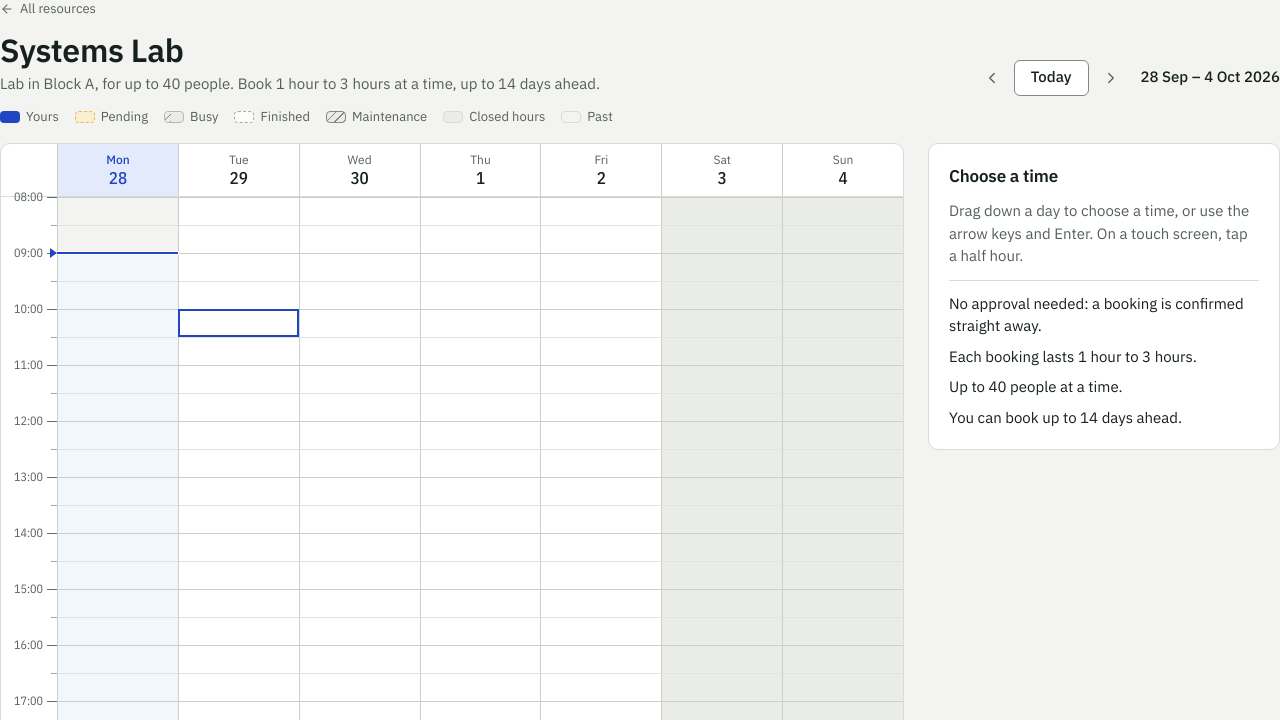
booking from the calendar › explains CAPACITY_EXCEEDED in one sentence with the resource's limit, and offers no waitlist
This screenshot has width=1280, height=720.
Press Enter
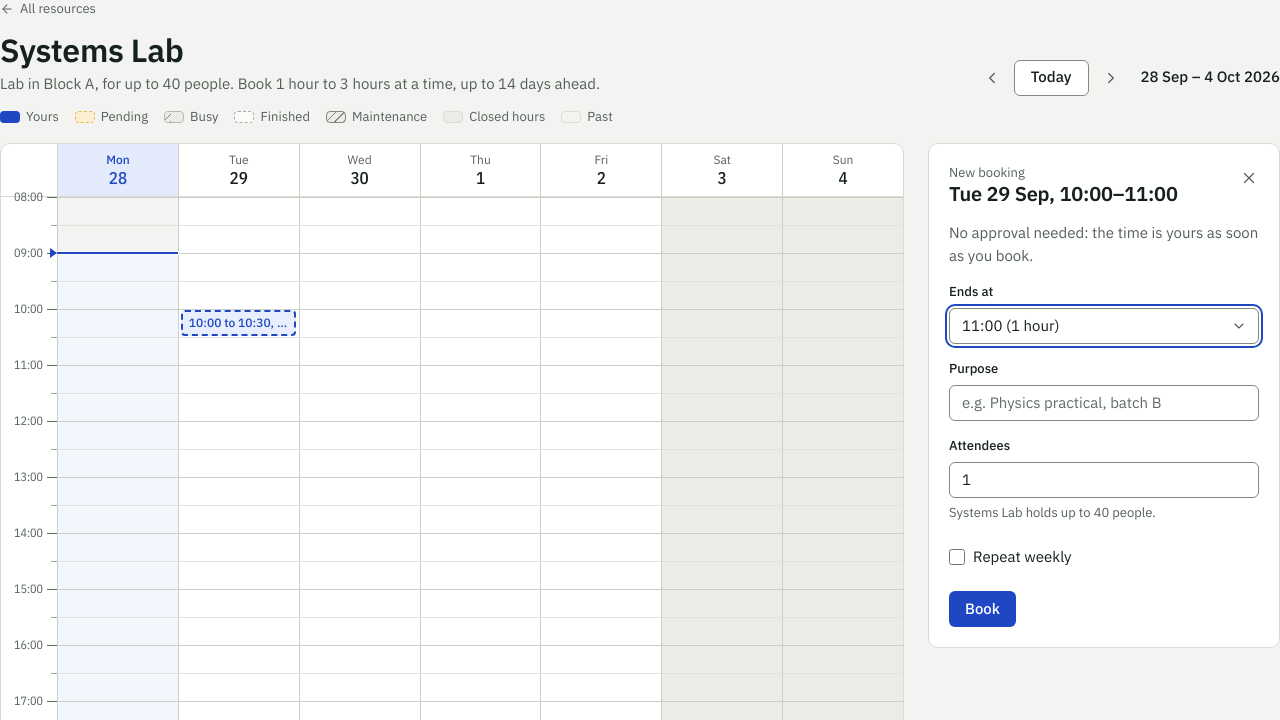
Click the button "Book" at (982, 609), box [949, 591, 1016, 627]
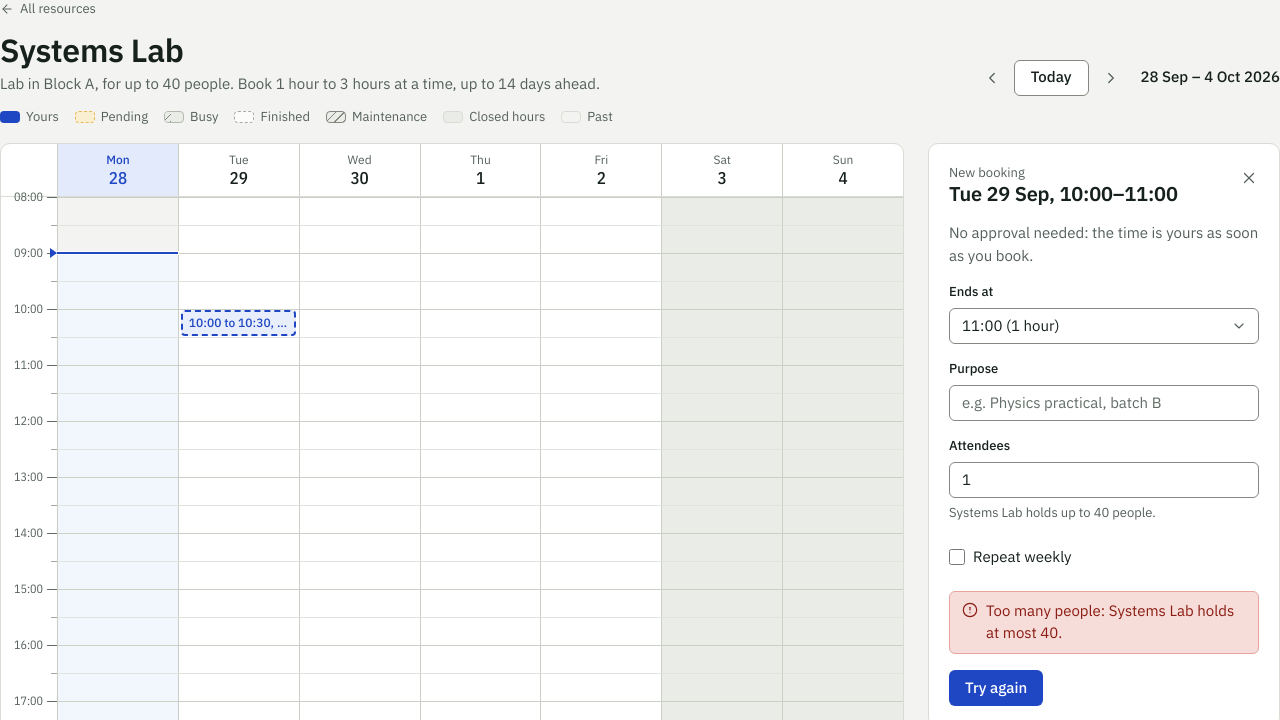
Expected: the text "Too many people: Systems Lab holds at most 40." is shown, [986, 600, 1246, 645]
